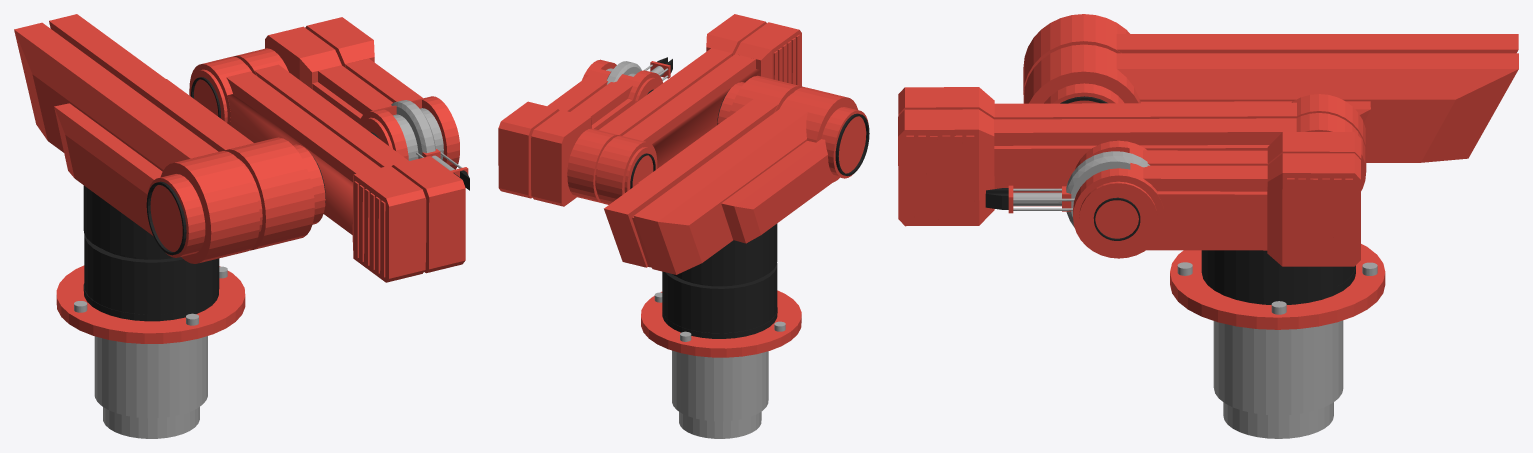
Rendered from RobotGotov.fbx.
The picture shows the model from 3 angles, left to right: view 1: azimuth 30°, elevation 25°; view 2: azimuth 150°, elevation 25°; view 3: azimuth 270°, elevation 25°; orthographic projection. The views are drawn at different scales.
Visible parts, largest first — view 1: Osnova, hend, Vtulka, Kist, Platforma, Instr; view 2: Osnova, hend, Vtulka, Kist, Platforma, Instr; view 3: Osnova, hend, Kist, Vtulka, Platforma, Instr.
Part boxes in pixels (box(x1,y1,x2,y2)): Osnova: box(14, 14, 325, 438); hend: box(189, 48, 465, 282); Vtulka: box(84, 234, 219, 418); Kist: box(265, 17, 459, 169); Platforma: box(56, 265, 245, 343); Instr: box(391, 100, 469, 190); Osnova: box(604, 75, 869, 438); hend: box(567, 14, 801, 204); Vtulka: box(662, 263, 777, 421); Kist: box(498, 59, 662, 206); Platforma: box(641, 290, 801, 357); Instr: box(606, 57, 672, 84); Osnova: box(1023, 14, 1518, 438); hend: box(898, 87, 1366, 226); Kist: box(1073, 132, 1361, 266); Vtulka: box(1201, 250, 1355, 415); Platforma: box(1170, 244, 1385, 329); Instr: box(985, 151, 1149, 227).
Size of the model in its own units: 152 by 154 by 233.
